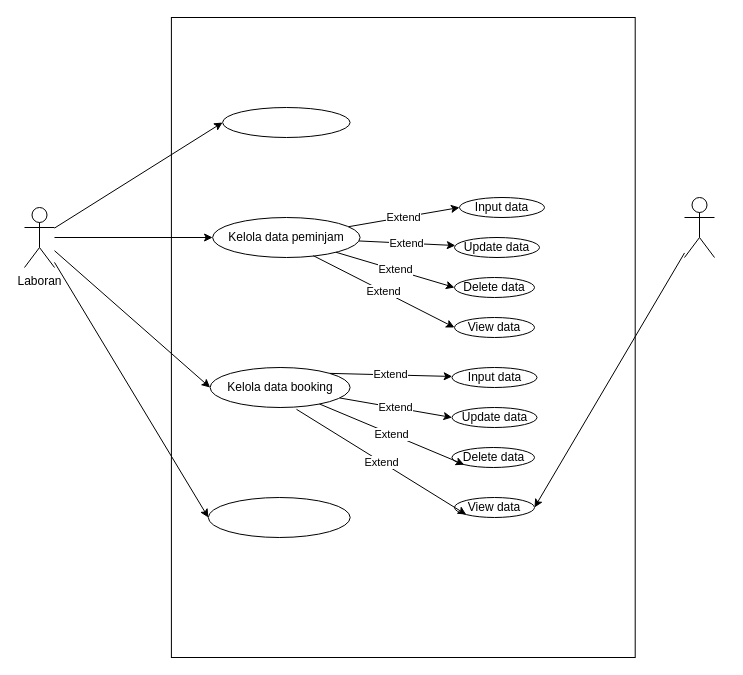
Image size: 743x675. Some labels were removed from this diagram. The shapes that lost their labels are listed below. From the top down, each one's box as (x1, y1, x2, y2) in pixels, then its label:
(222, 106, 350, 138): Login
(684, 196, 714, 258): Peminjam
(207, 496, 350, 538): Logout
